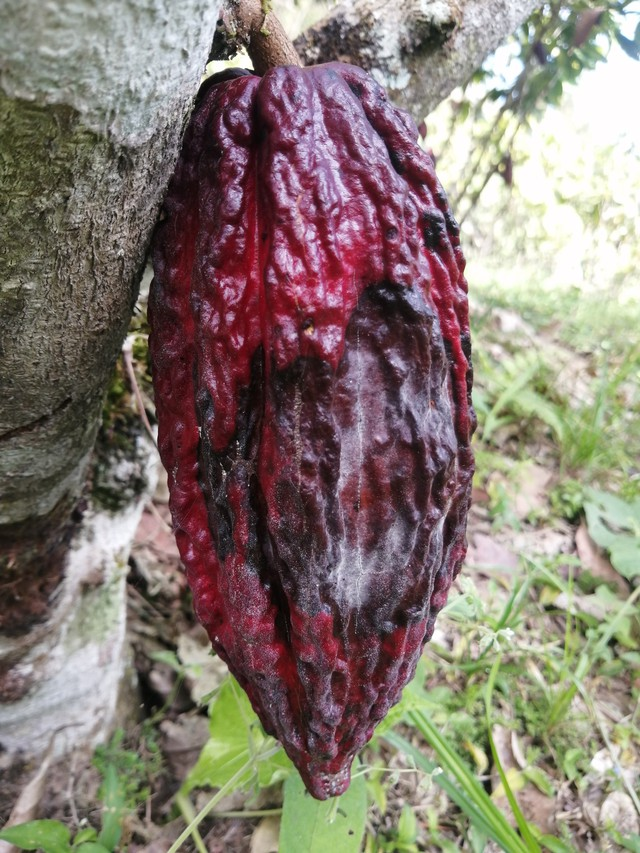moniliophthora roreri: (133, 41, 504, 815)
